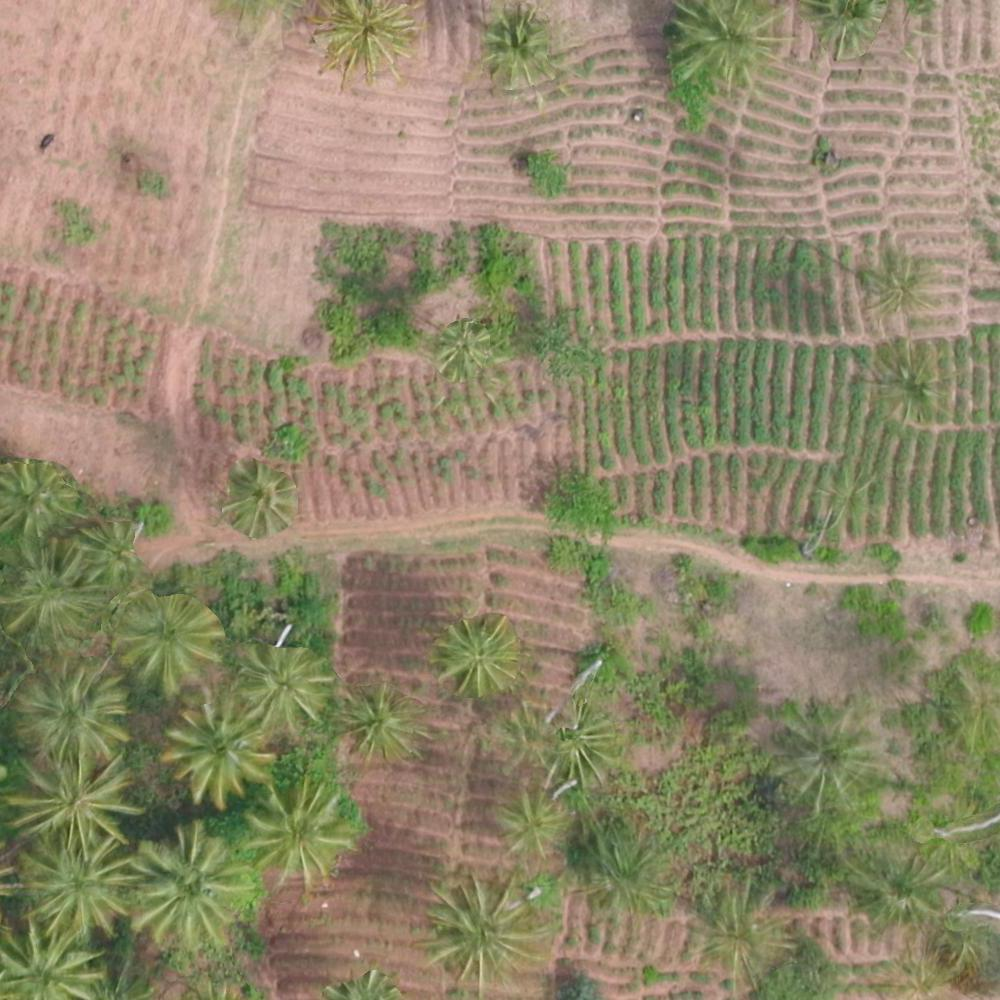Palm: (124, 831, 249, 947), (427, 877, 547, 985), (17, 838, 131, 943), (8, 756, 127, 851), (14, 666, 124, 767), (247, 783, 351, 885), (168, 700, 271, 801), (667, 1, 778, 93), (6, 539, 103, 643), (774, 708, 883, 800), (116, 595, 216, 688), (690, 888, 785, 982), (2, 917, 109, 1000), (231, 643, 324, 733), (317, 1, 413, 84), (582, 830, 671, 916), (1, 456, 83, 540), (339, 682, 422, 763), (851, 848, 937, 926), (548, 701, 619, 793), (483, 6, 566, 84), (872, 343, 948, 427), (433, 623, 511, 696), (224, 461, 296, 536), (493, 790, 569, 860), (860, 258, 936, 317), (806, 1, 884, 52), (433, 326, 494, 384)
